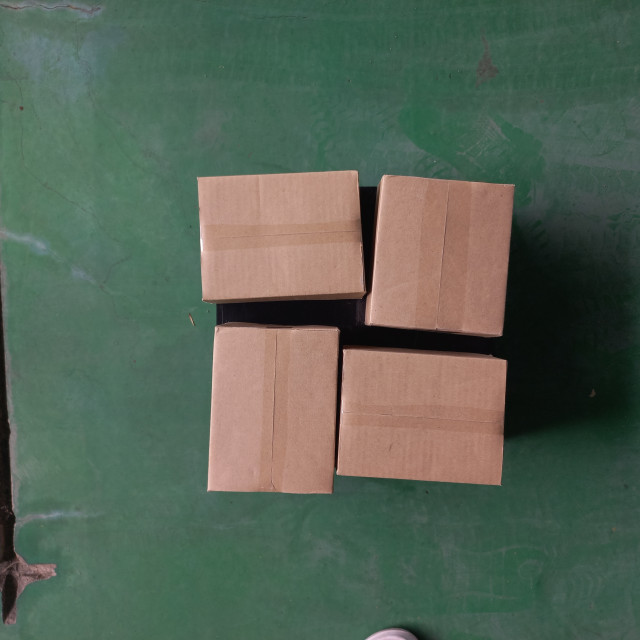box: (334, 342, 510, 489), (364, 172, 517, 341), (192, 164, 370, 306), (205, 320, 342, 498)
